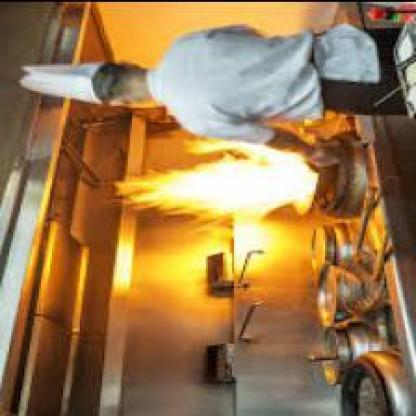Fire: (122, 143, 316, 210)
